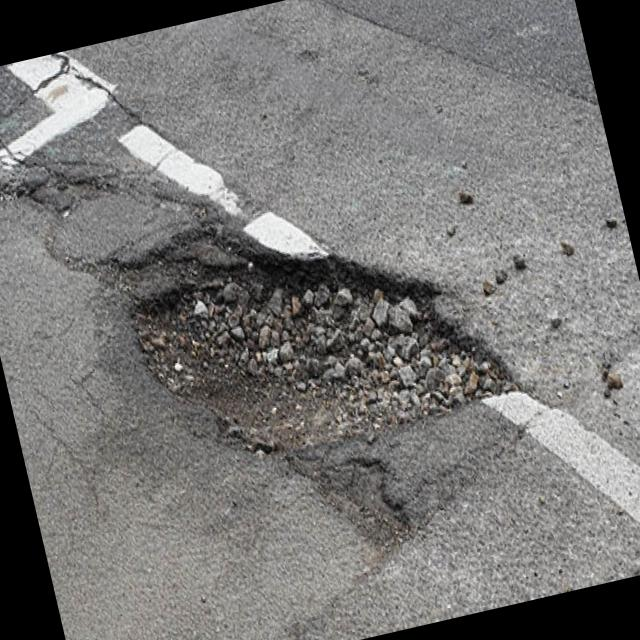Potholes: (83, 147, 564, 592)
